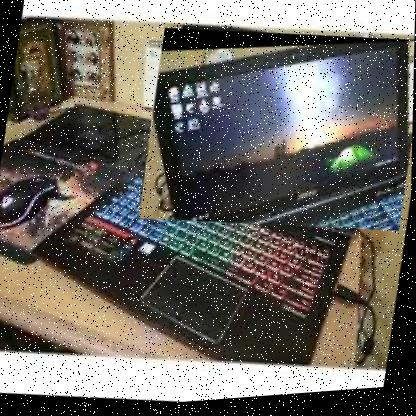Normal: (136, 15, 414, 254)
